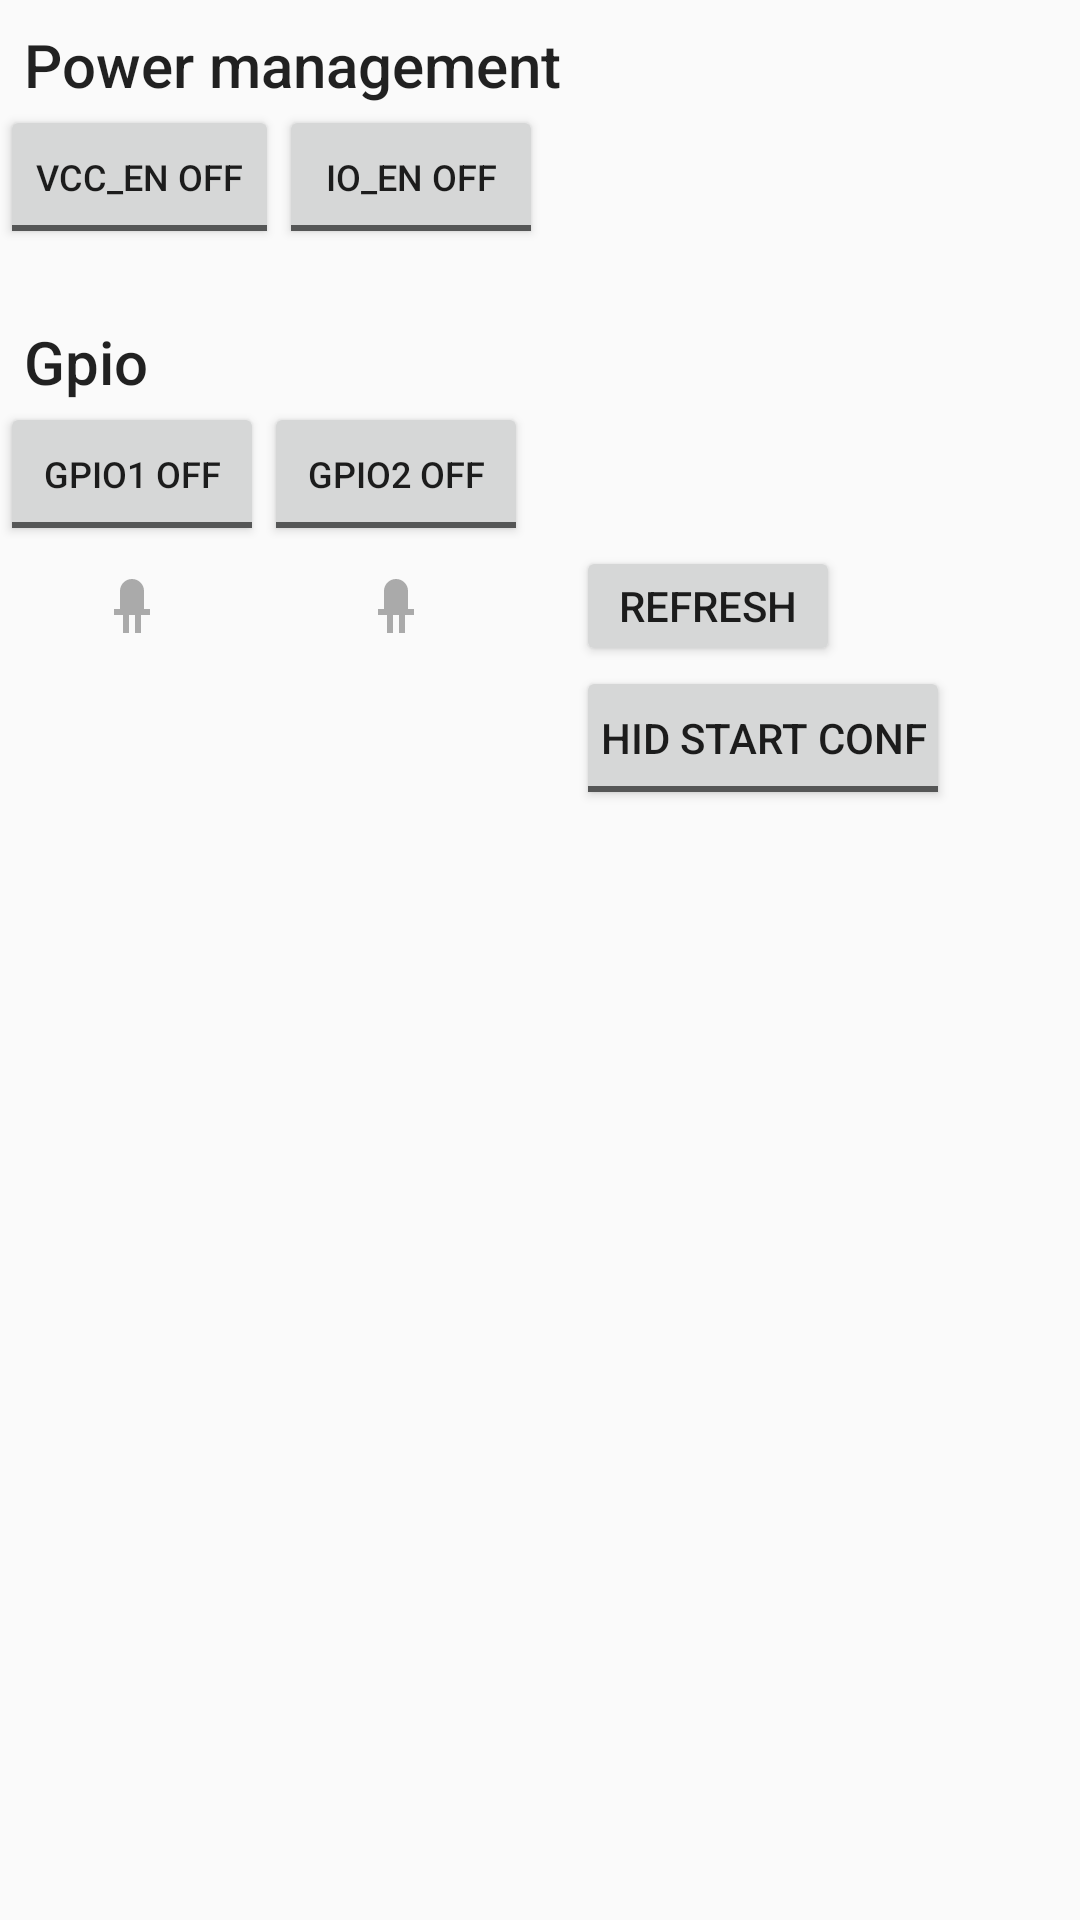

Named icons in this screenshot (1080px x 1920px) and their centers, (x=x, y=y):
led variant on: (x=132, y=606), (x=396, y=606)
